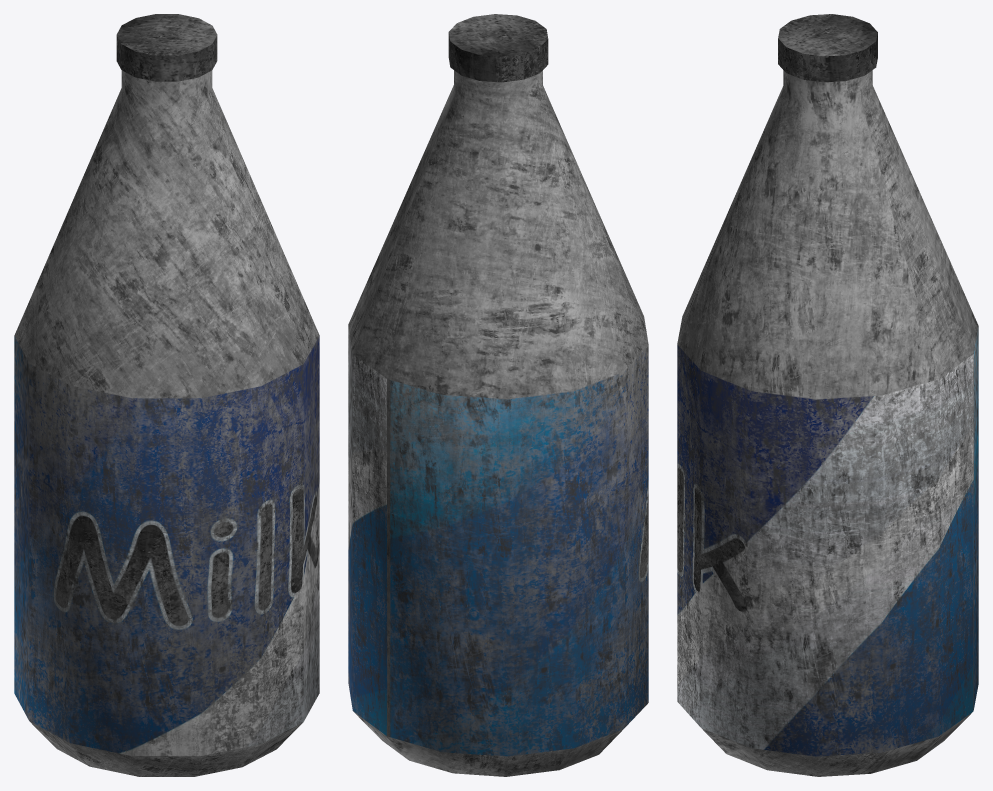
The model's file is botol.fbx.
3 renders of one model, left to right at view 1: azimuth 30°, elevation 25°; view 2: azimuth 150°, elevation 25°; view 3: azimuth 270°, elevation 25°, orthographic.
Visible parts, largest first — view 1: Milk; view 2: Milk; view 3: Milk.
Boxes of the visible parts, <box> form: Milk: <box>14,14,319,776</box>; Milk: <box>348,14,648,776</box>; Milk: <box>677,14,978,776</box>.
Bounding box in the file's own units: 27.39 × 68.7 × 27.2.
